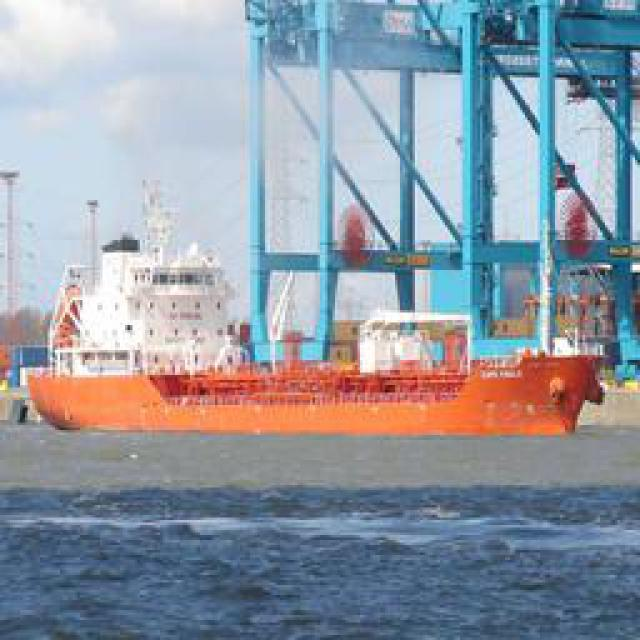Ship: (23, 182, 604, 442)
